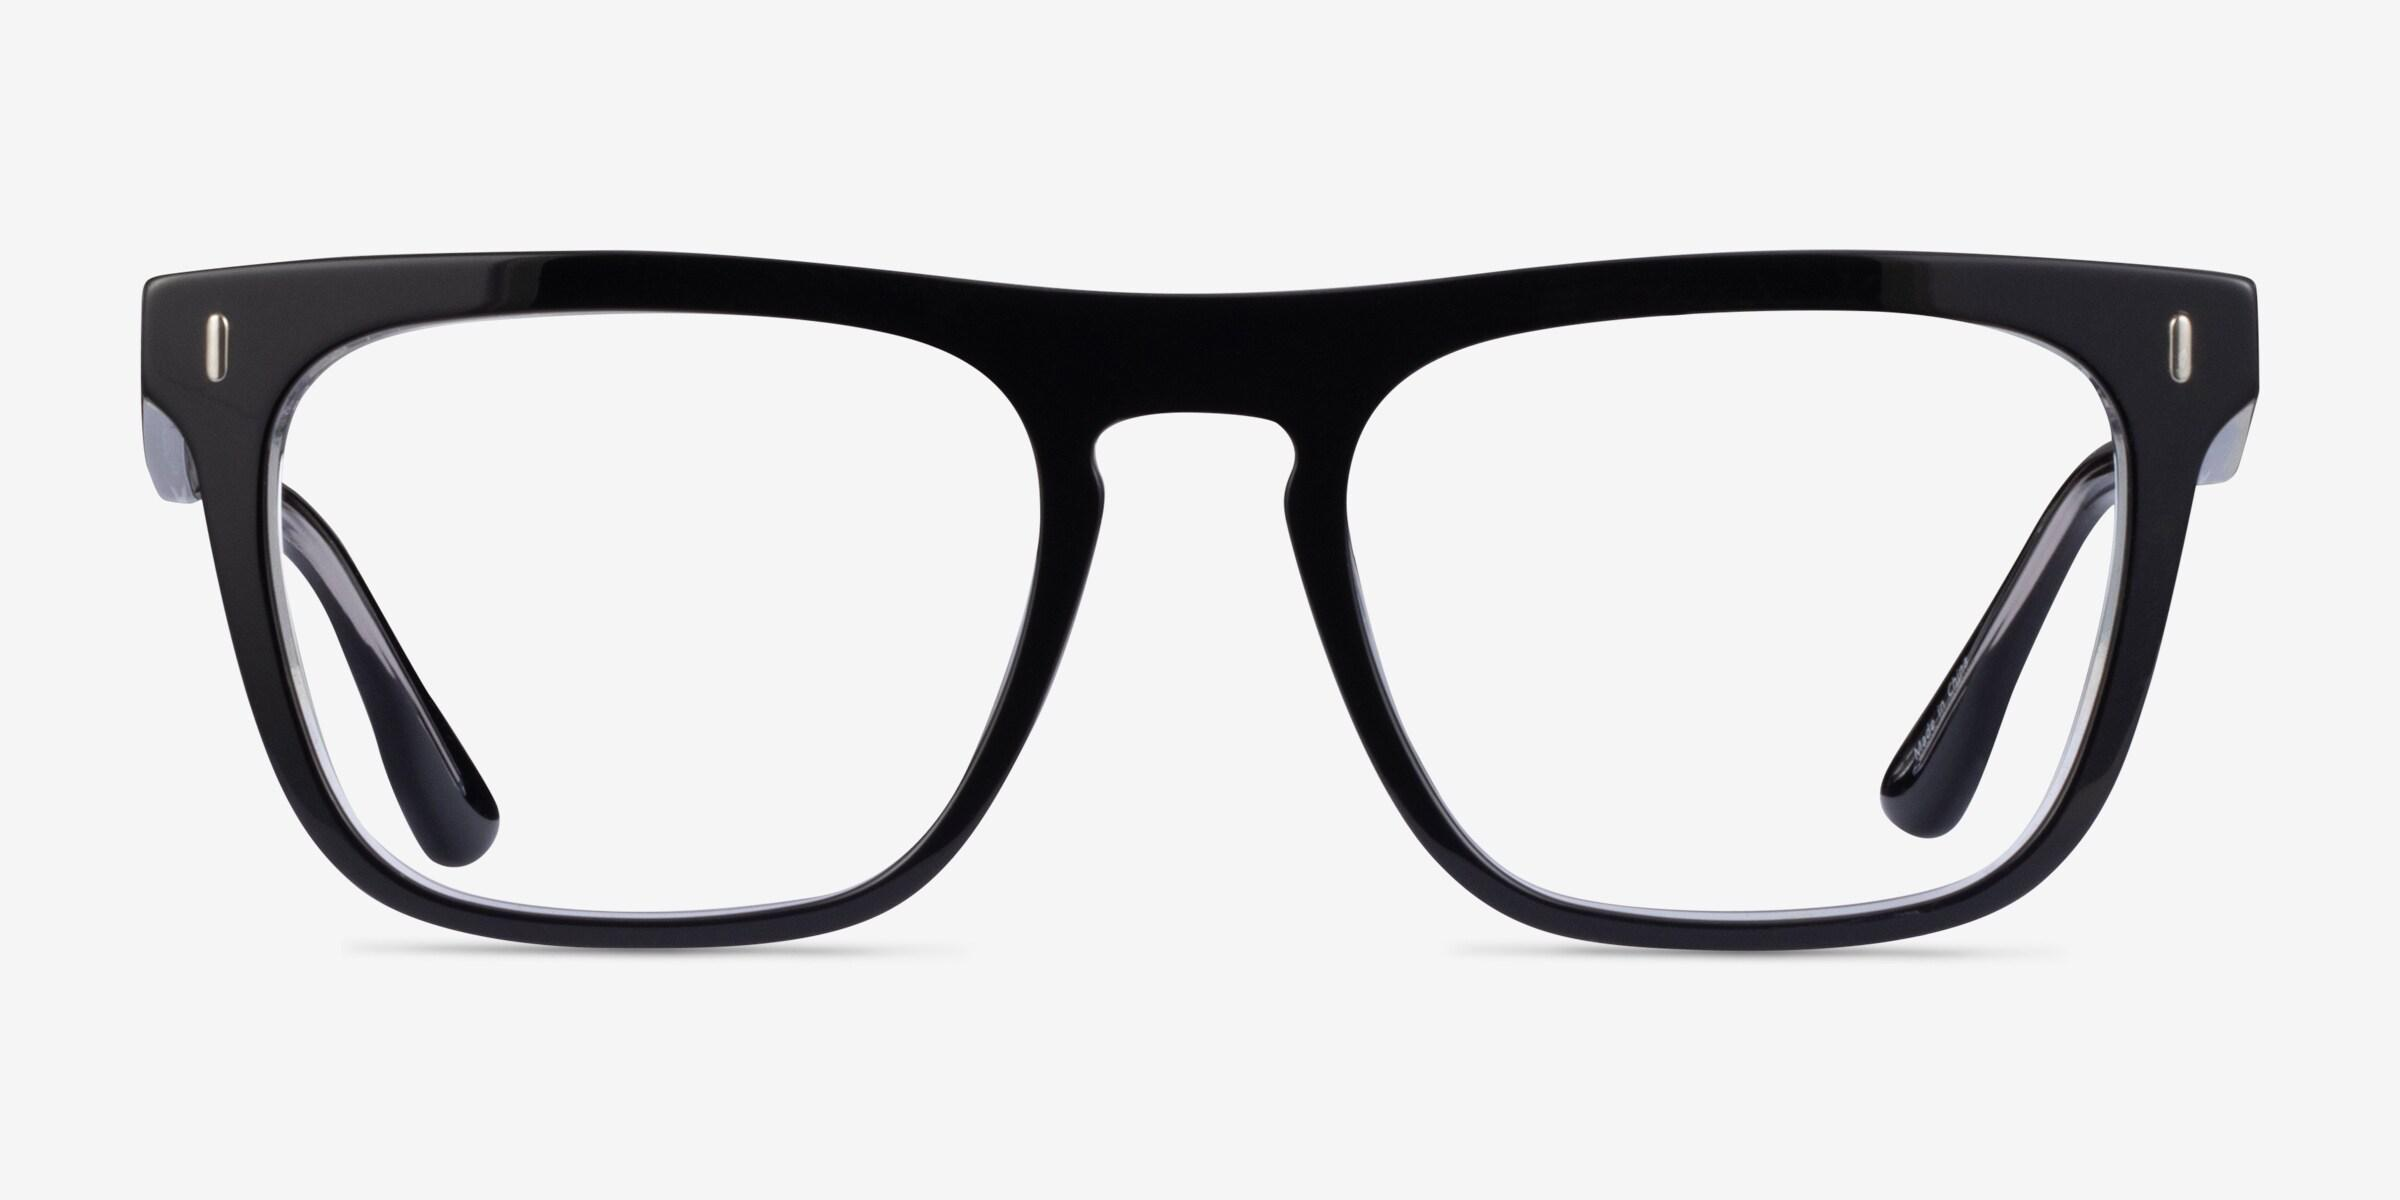Eye-glass: (130, 231, 2268, 998)
